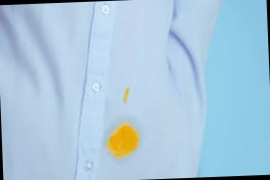mustard: (109, 128, 142, 156), (122, 88, 131, 104)
